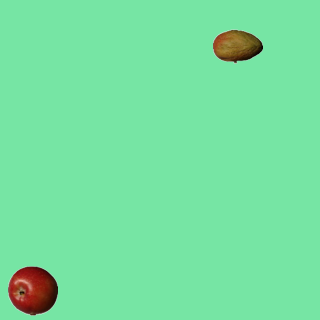Apple Braeburn: (7, 265, 57, 315)
Papaya: (212, 21, 262, 71)
